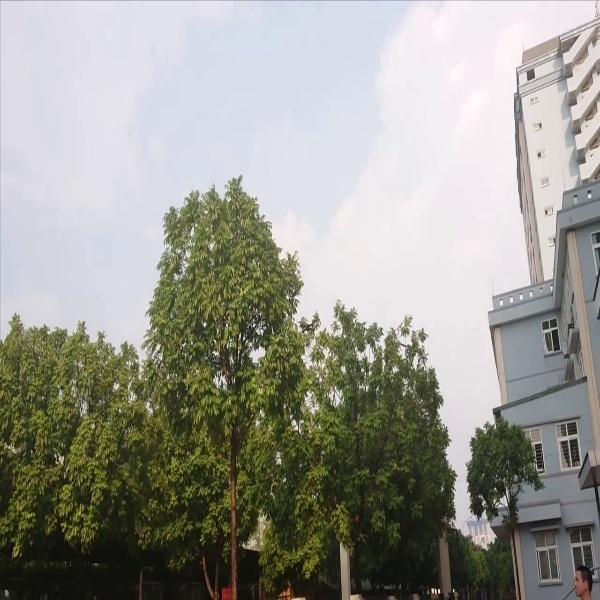drone: (295, 317, 319, 336)
